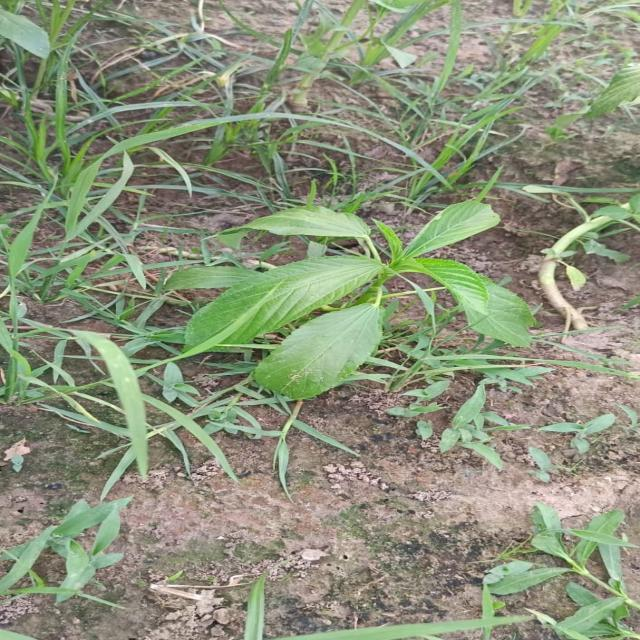plant: (186, 201, 534, 398)
